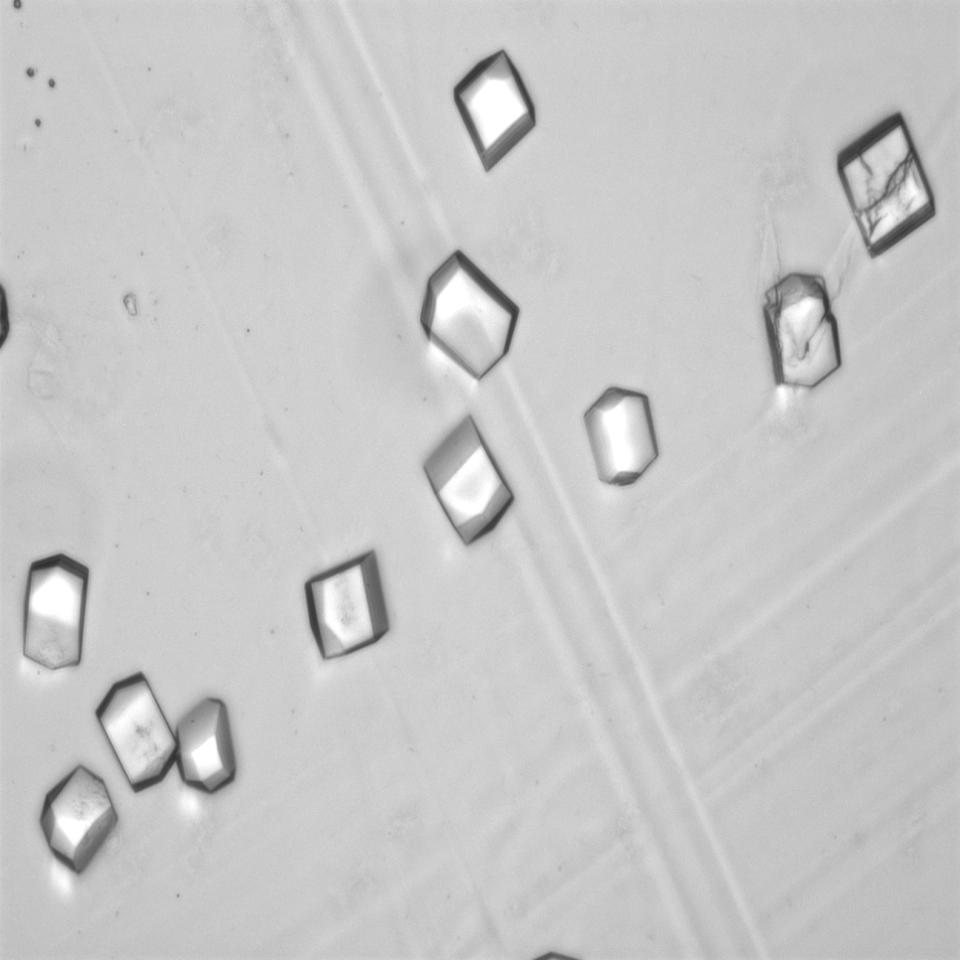crystal: (837, 112, 941, 257), (420, 254, 518, 378), (422, 414, 512, 544), (453, 50, 534, 170), (306, 552, 389, 662), (762, 276, 840, 392), (96, 676, 176, 788), (39, 766, 118, 875), (582, 382, 660, 486), (22, 556, 88, 670), (175, 700, 236, 793)
